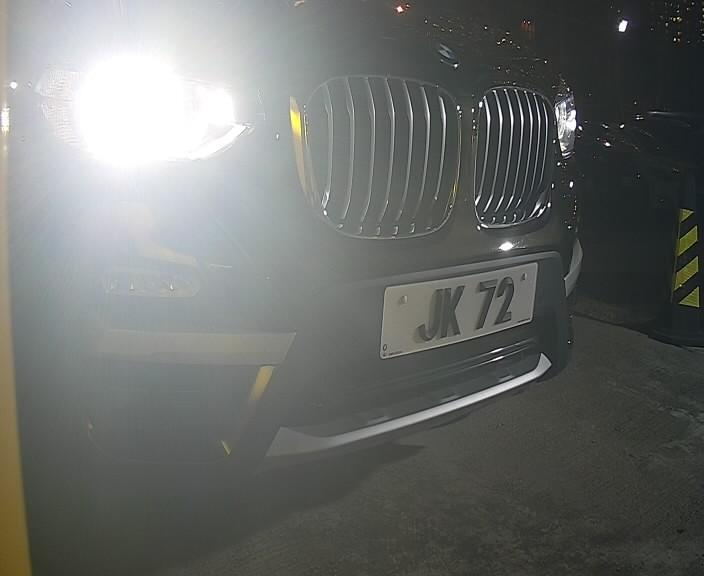License Plate: (393, 253, 541, 358)
